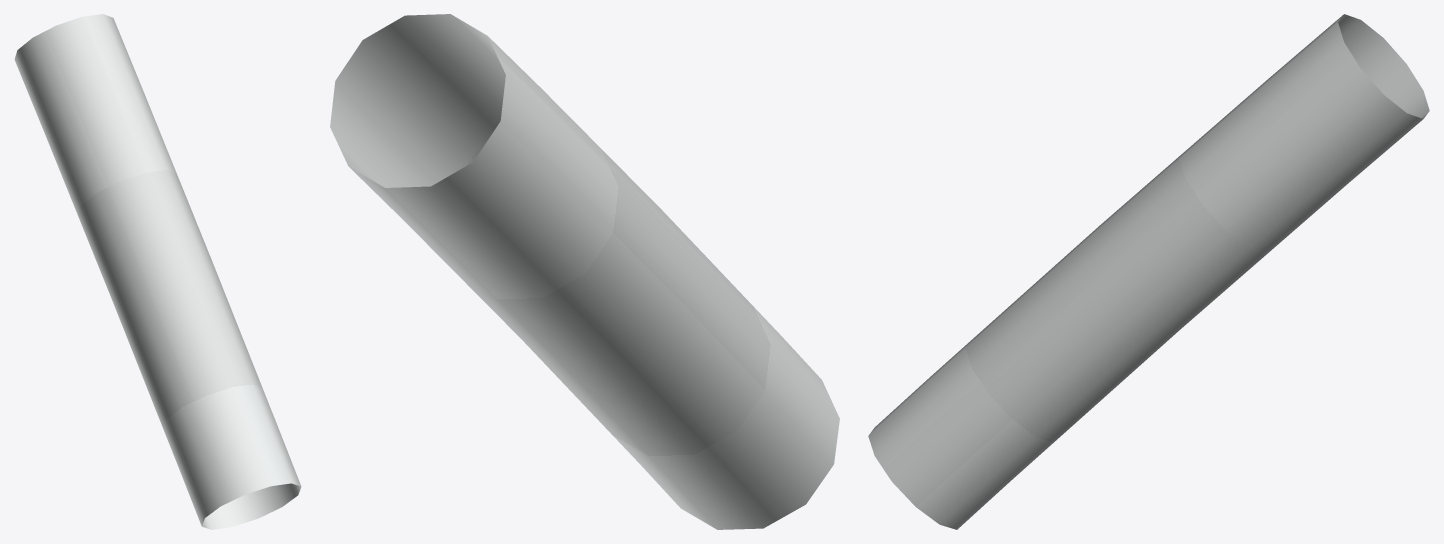
File: luminairearm_laupsweep10ft_c3.obj
The picture shows the model from 3 angles, left to right: view 1: azimuth 30°, elevation 25°; view 2: azimuth 150°, elevation 25°; view 3: azimuth 270°, elevation 25°; orthographic projection. The views are drawn at different scales.
Parts seen in each view (by area): view 1: luminairearm_laupsweep10ft_c3; view 2: luminairearm_laupsweep10ft_c3; view 3: luminairearm_laupsweep10ft_c3.
Part boxes in pixels (x1,y1,x2,y2): luminairearm_laupsweep10ft_c3: (14, 14, 301, 529); luminairearm_laupsweep10ft_c3: (330, 14, 839, 529); luminairearm_laupsweep10ft_c3: (868, 14, 1429, 529).
Bounding box in the file's own units: 0.0562 × 0.2312 × 0.2356.
